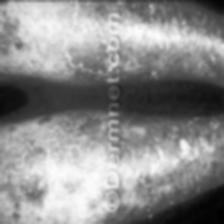Non-Cancerous Skin Condition: (0, 119, 106, 224), (122, 120, 224, 220), (123, 0, 224, 81)
